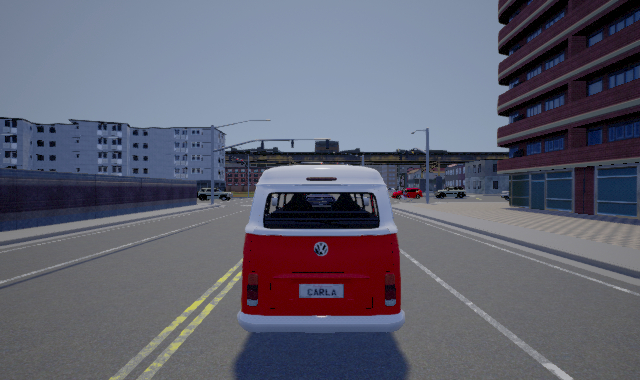vehicle: (241, 162, 403, 333), (198, 186, 234, 200), (434, 186, 466, 199), (392, 186, 423, 199)
